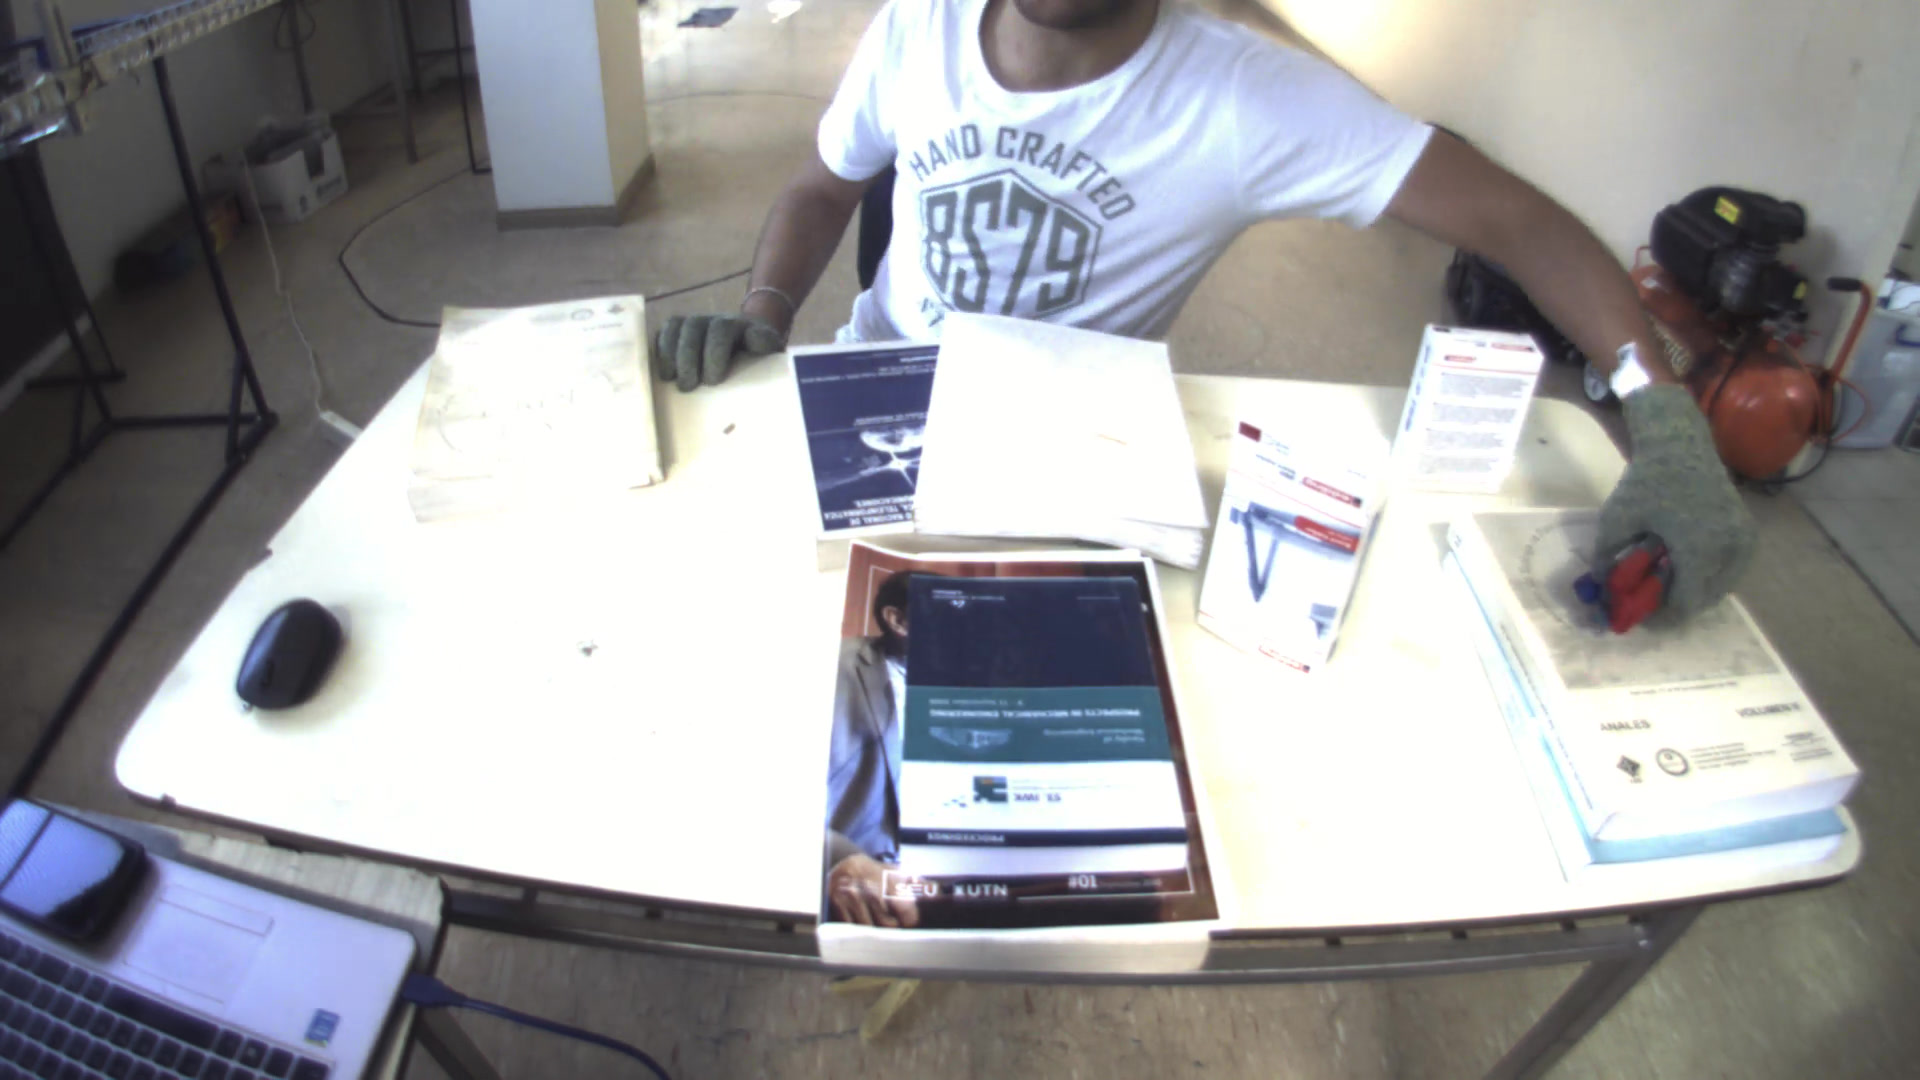hand: (1592, 396, 1764, 630), (651, 311, 781, 402)
